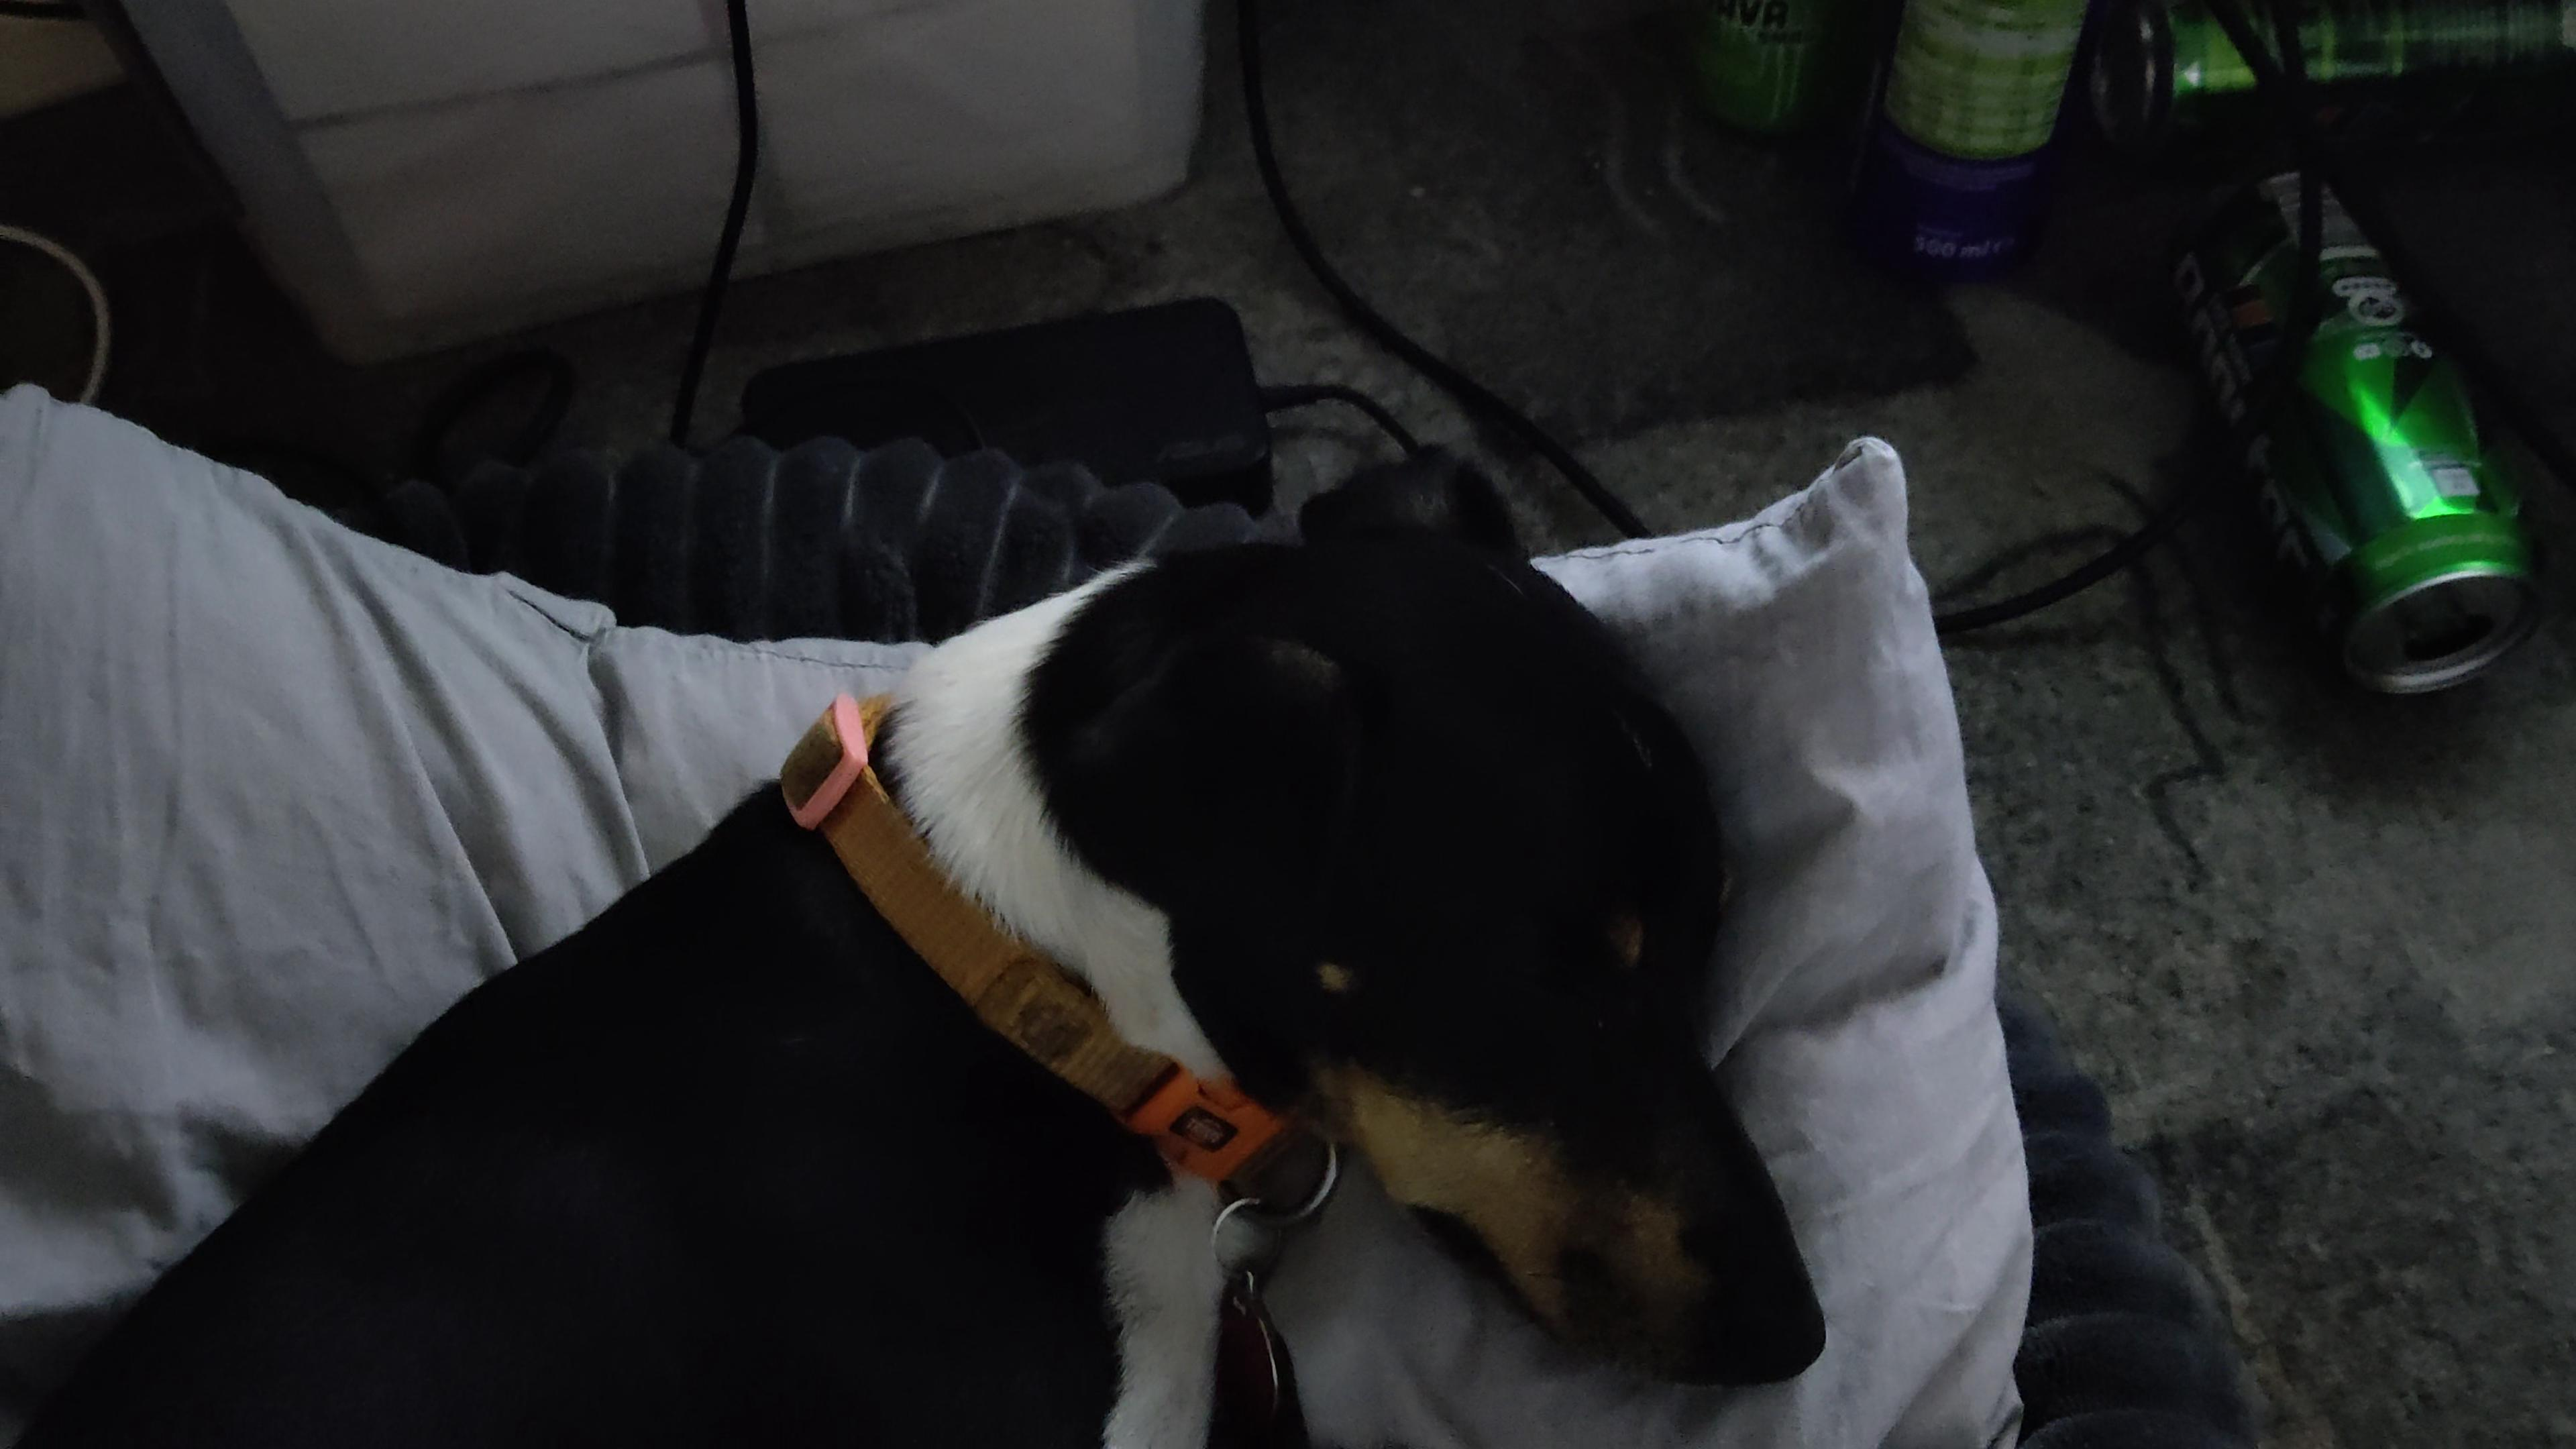Dog: (0, 432, 1863, 1449)
